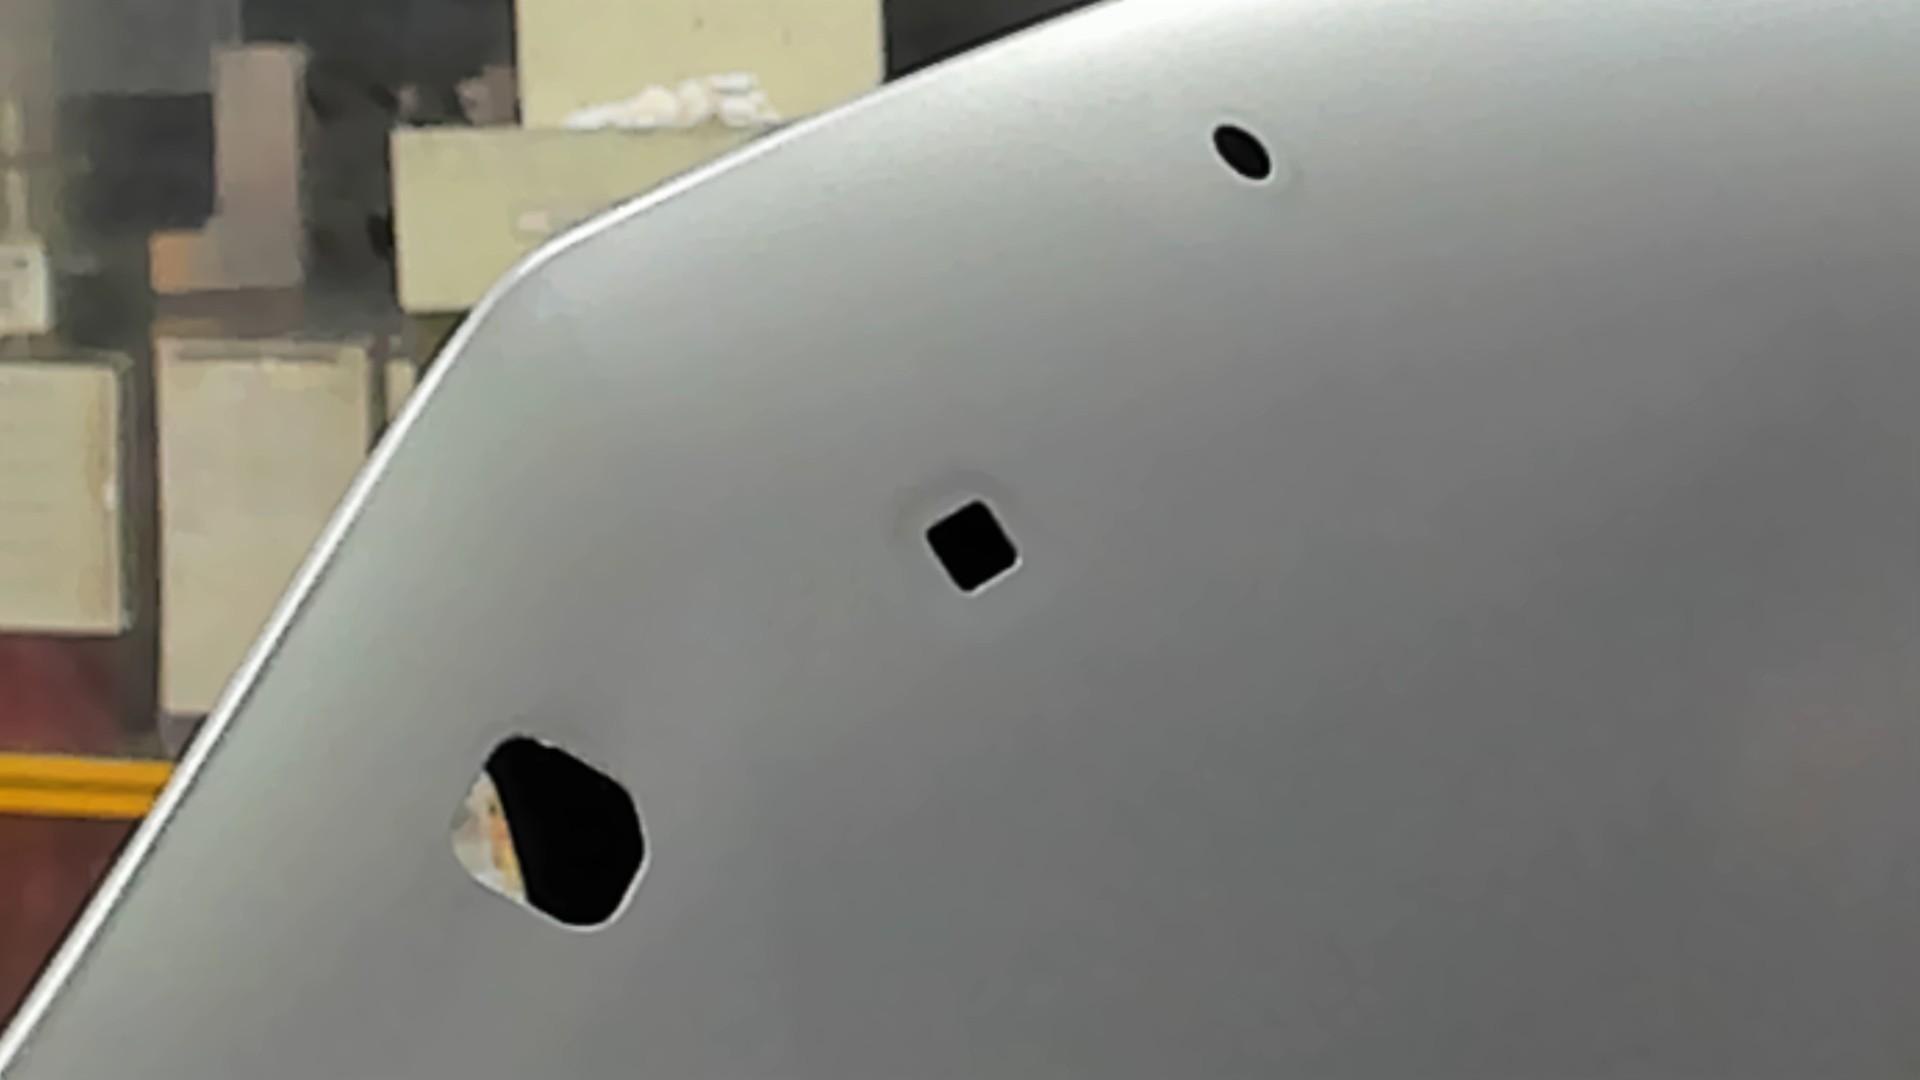capo: (1029, 207, 1920, 1080)
chico: (1207, 113, 1278, 186)
grande: (436, 728, 651, 936)
mediano: (914, 495, 1023, 597)
